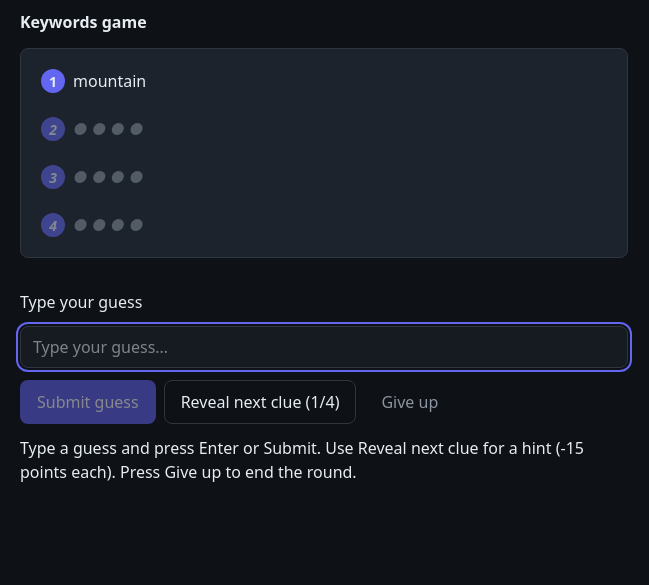
KeywordsGame — wrong guess › records two distinct wrong guesses as separate chips
This screenshot has width=649, height=585.
Type "Mountain" into the text box labelled "Type your guess" at point(324, 347), box x1=20 y1=326 x2=628 y2=368
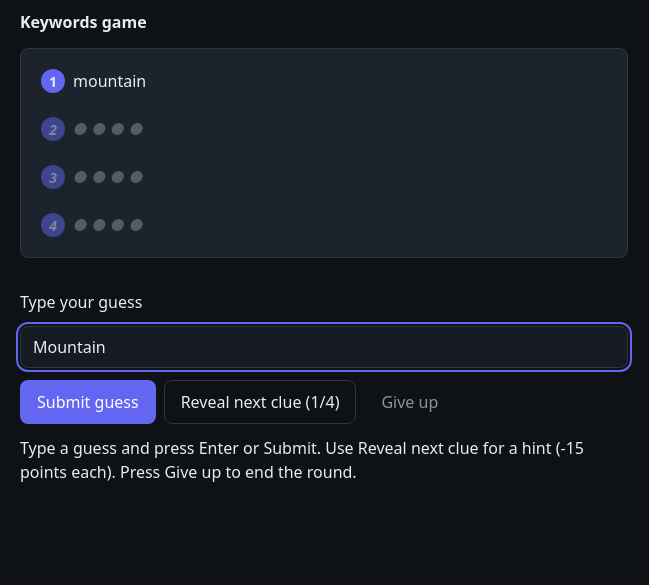
Click the button "Submit guess" at point(88, 402), box x1=20 y1=380 x2=156 y2=424
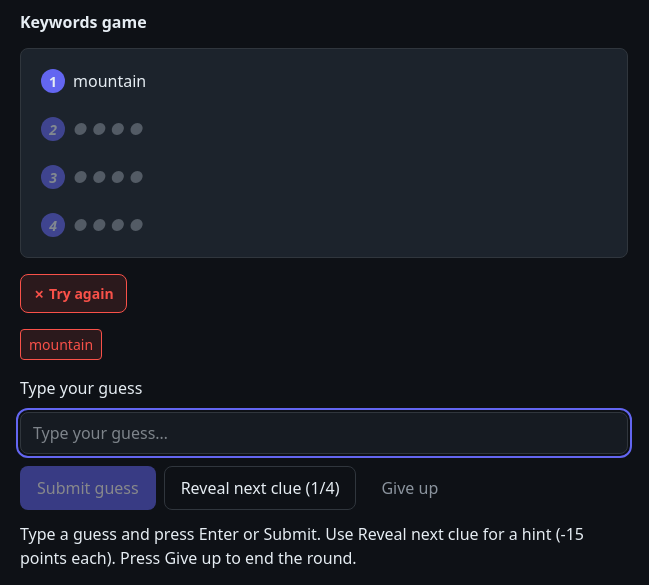
Type "Ocean" into the text box labelled "Type your guess" at point(324, 433), box x1=20 y1=412 x2=628 y2=454
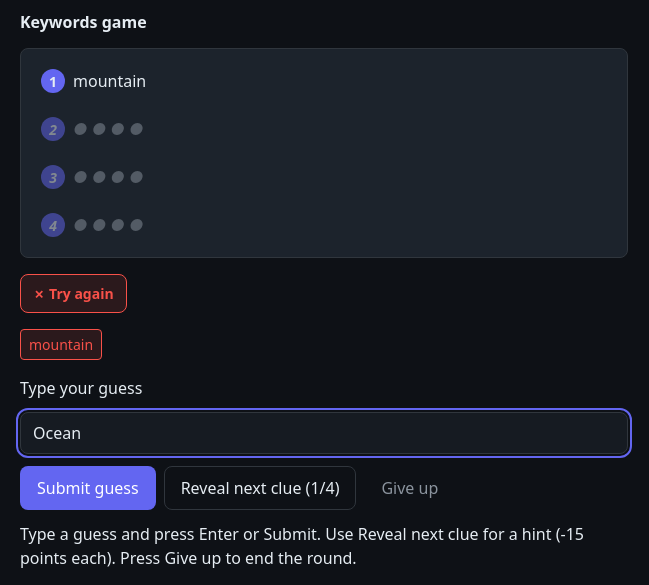
Click the button "Submit guess" at point(88, 488), box x1=20 y1=466 x2=156 y2=510
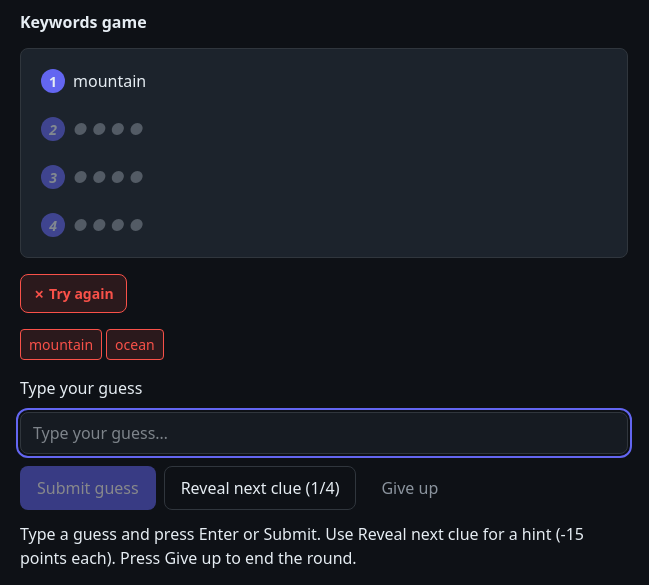
Check: the element named "Previous wrong guesses" shows "mountain", box x1=29 y1=335 x2=93 y2=354
Check: the element named "Previous wrong guesses" shows "ocean", box x1=115 y1=335 x2=155 y2=354
